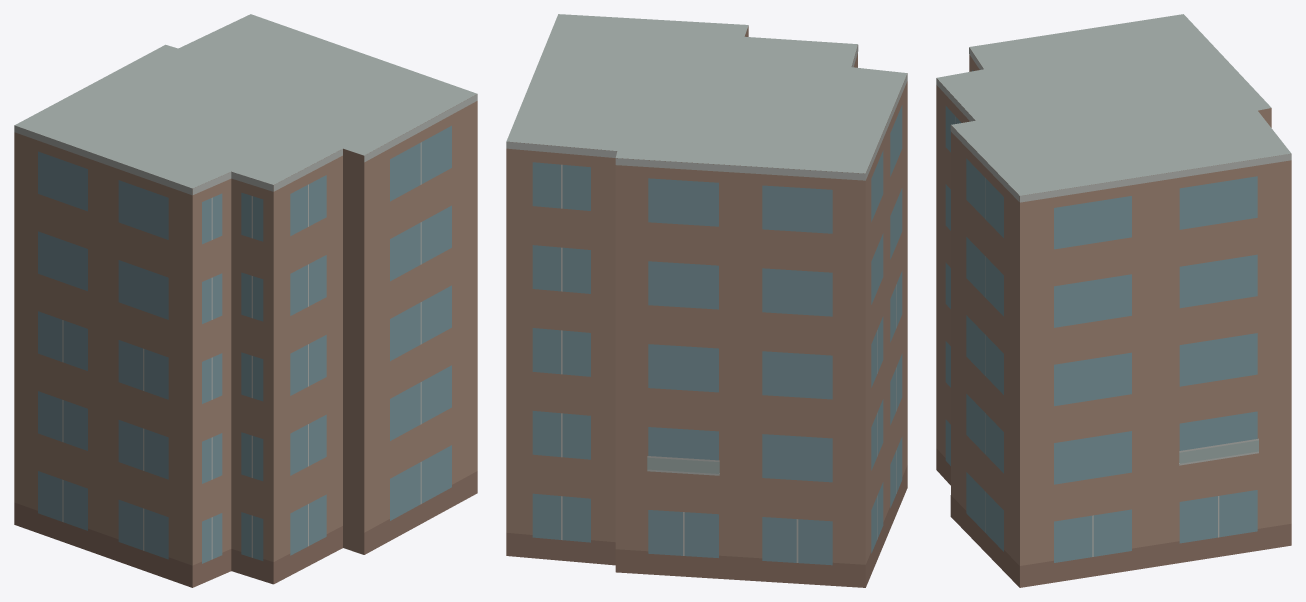
Rendered from survey-upis-32520547.glb.
The picture shows the model from 3 angles, left to right: view 1: azimuth 30°, elevation 25°; view 2: azimuth 150°, elevation 25°; view 3: azimuth 270°, elevation 25°; orthographic projection. The views are drawn at different scales.
Parts seen in each view (by area): view 1: survey-upis-32520547.tmp; view 2: survey-upis-32520547.tmp; view 3: survey-upis-32520547.tmp.
Boxes of the visible parts, x1,y1,x2,y2 form: survey-upis-32520547.tmp: [14, 14, 477, 587]; survey-upis-32520547.tmp: [506, 14, 907, 587]; survey-upis-32520547.tmp: [936, 14, 1291, 587].
Size of the model in its own units: 14.14 by 14.2 by 11.67.
